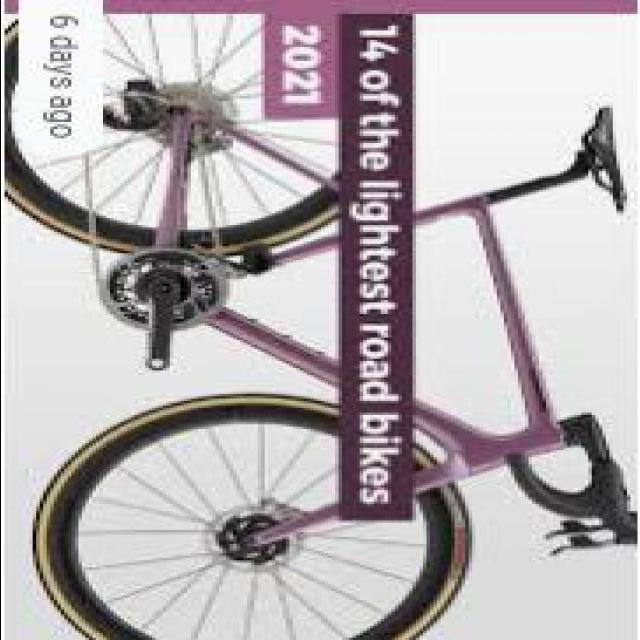bicycle: (12, 1, 606, 627)
